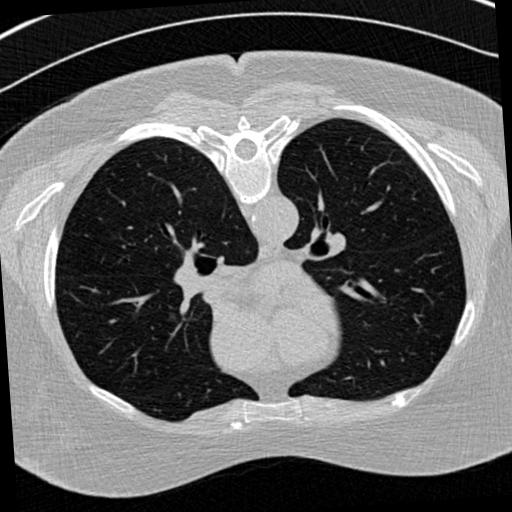nodule: (166, 312, 179, 325)
